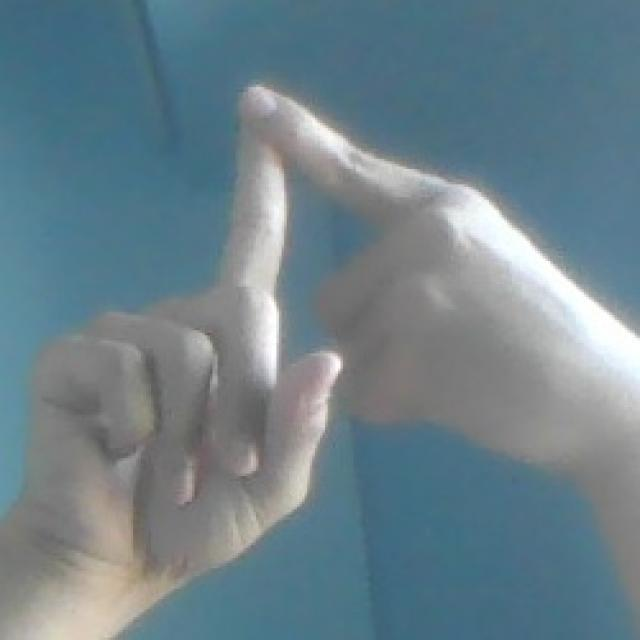Alphabet-E: (0, 87, 640, 640), (0, 287, 346, 640)
